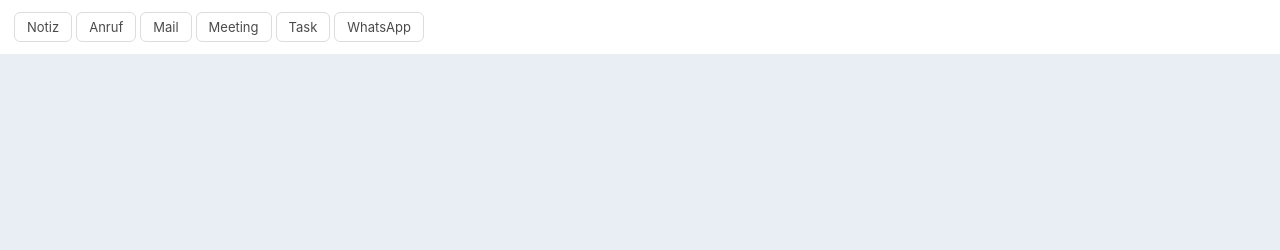
Scenario: EventComposer › clicking Anruf expands CallComposer
Click the button "Anruf".
click(106, 27)  # box [76,12,136,42]
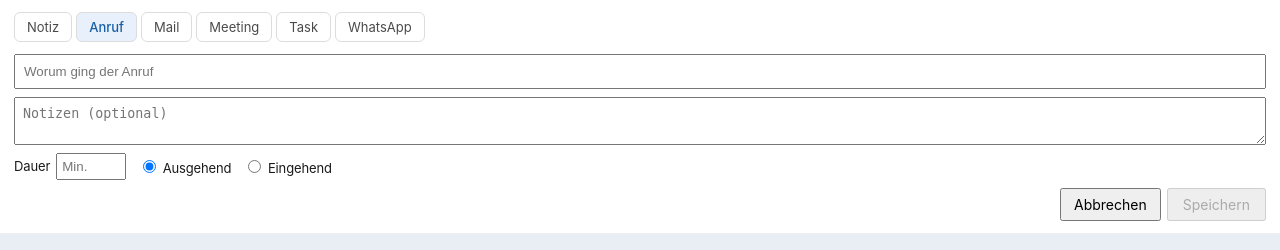
Now the field with placeholder "Worum ging der Anruf" is shown, box [14,54,1266,89]
